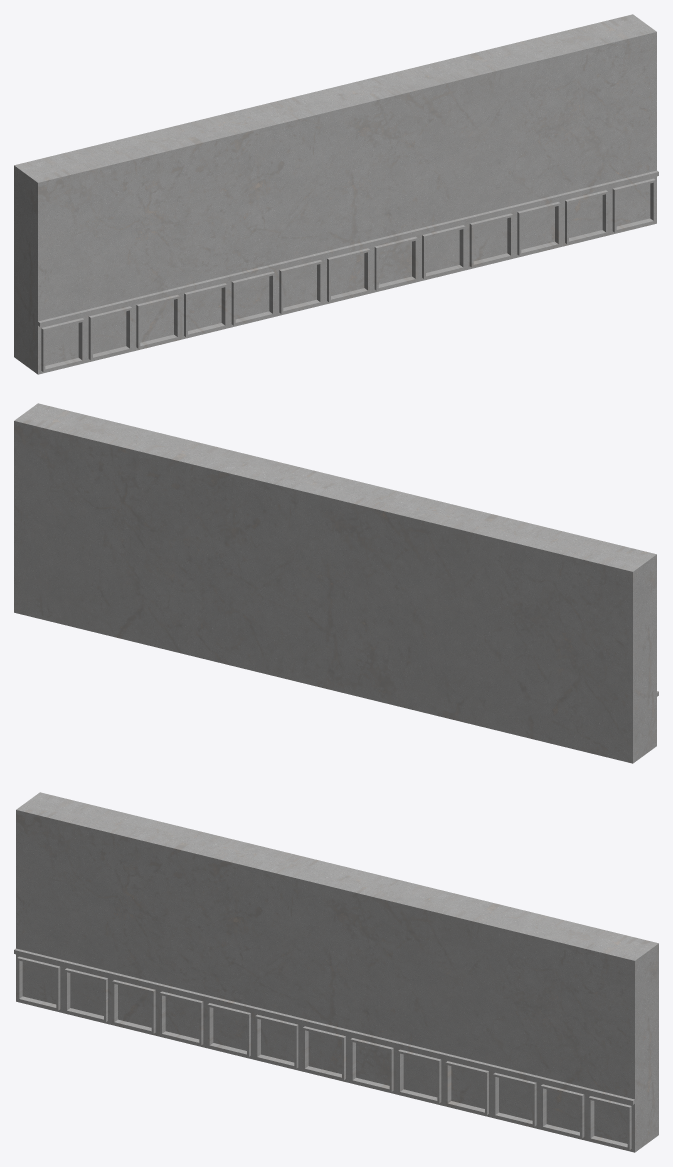
The model's file is wall_front_with_texture.fbx.
The picture shows the model from 3 angles, top to bottom: view 1: azimuth 30°, elevation 25°; view 2: azimuth 150°, elevation 25°; view 3: azimuth 330°, elevation 25°; orthographic projection.
Visible parts, largest first — view 1: wall_front_re; view 2: wall_front_re; view 3: wall_front_re.
Boxes of the visible parts, x1,y1,x2,y2 form: wall_front_re: (14, 14, 658, 374); wall_front_re: (14, 403, 658, 763); wall_front_re: (14, 792, 658, 1152).
Size of the model in its own units: 33.15 by 9.82 by 2.41.
Materials: 1 (1 with a texture image).
